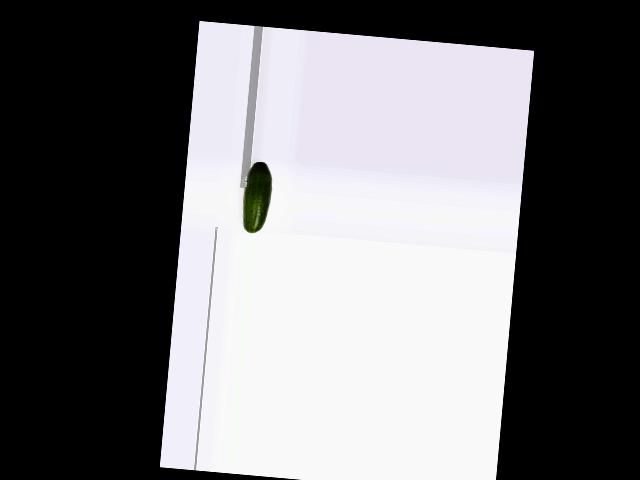cucumber: (240, 159, 274, 234)
